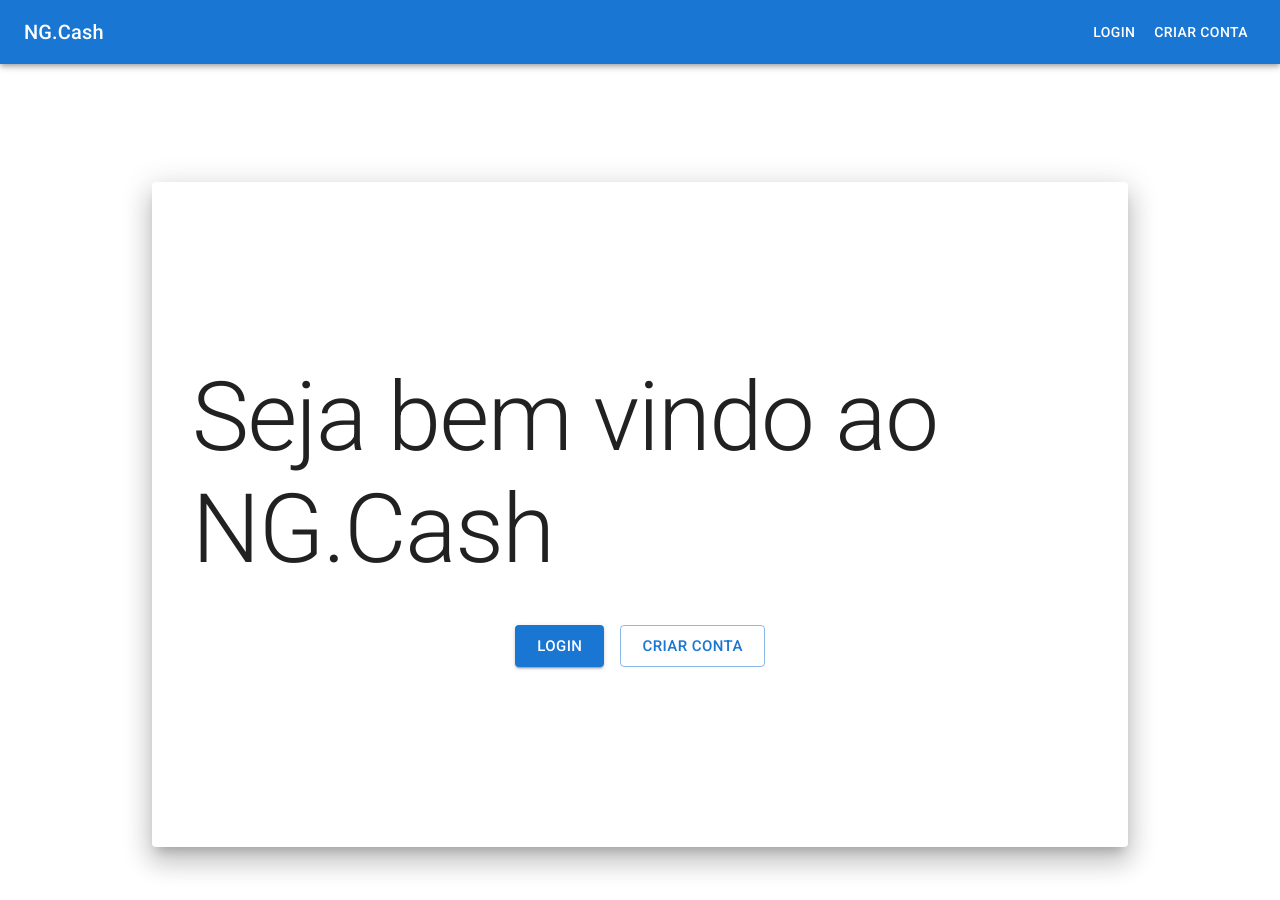
Iniital page › Buttons behavior › Should redirect to login page when page login button is clicked
The image size is (1280, 900).
Step 1. Click the button "Login" below "Seja bem vindo ao NG.Cash" → (560, 646), box [515,625,604,667]
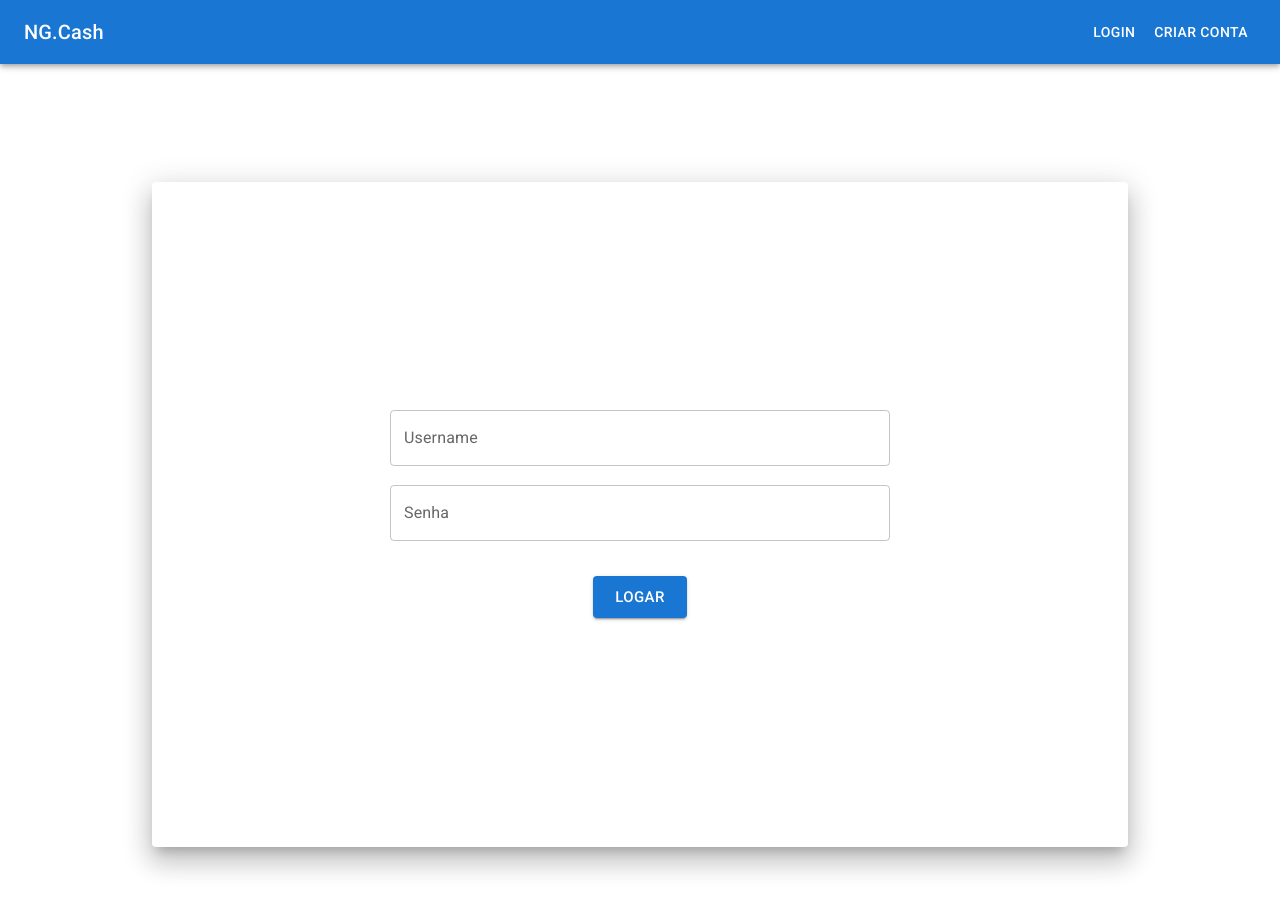
Result: the field labelled "Username" is shown at [390,410,890,466]
